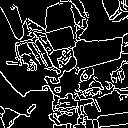cube: (41, 5, 86, 55)
